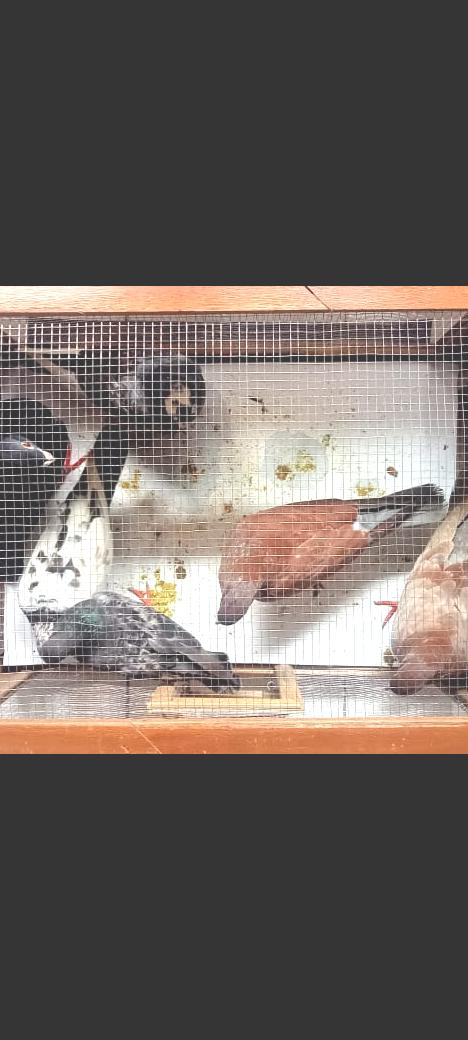Merpati: (214, 484, 446, 626), (17, 425, 129, 658), (40, 591, 240, 698), (385, 466, 468, 697), (39, 348, 207, 436), (0, 396, 66, 585)
